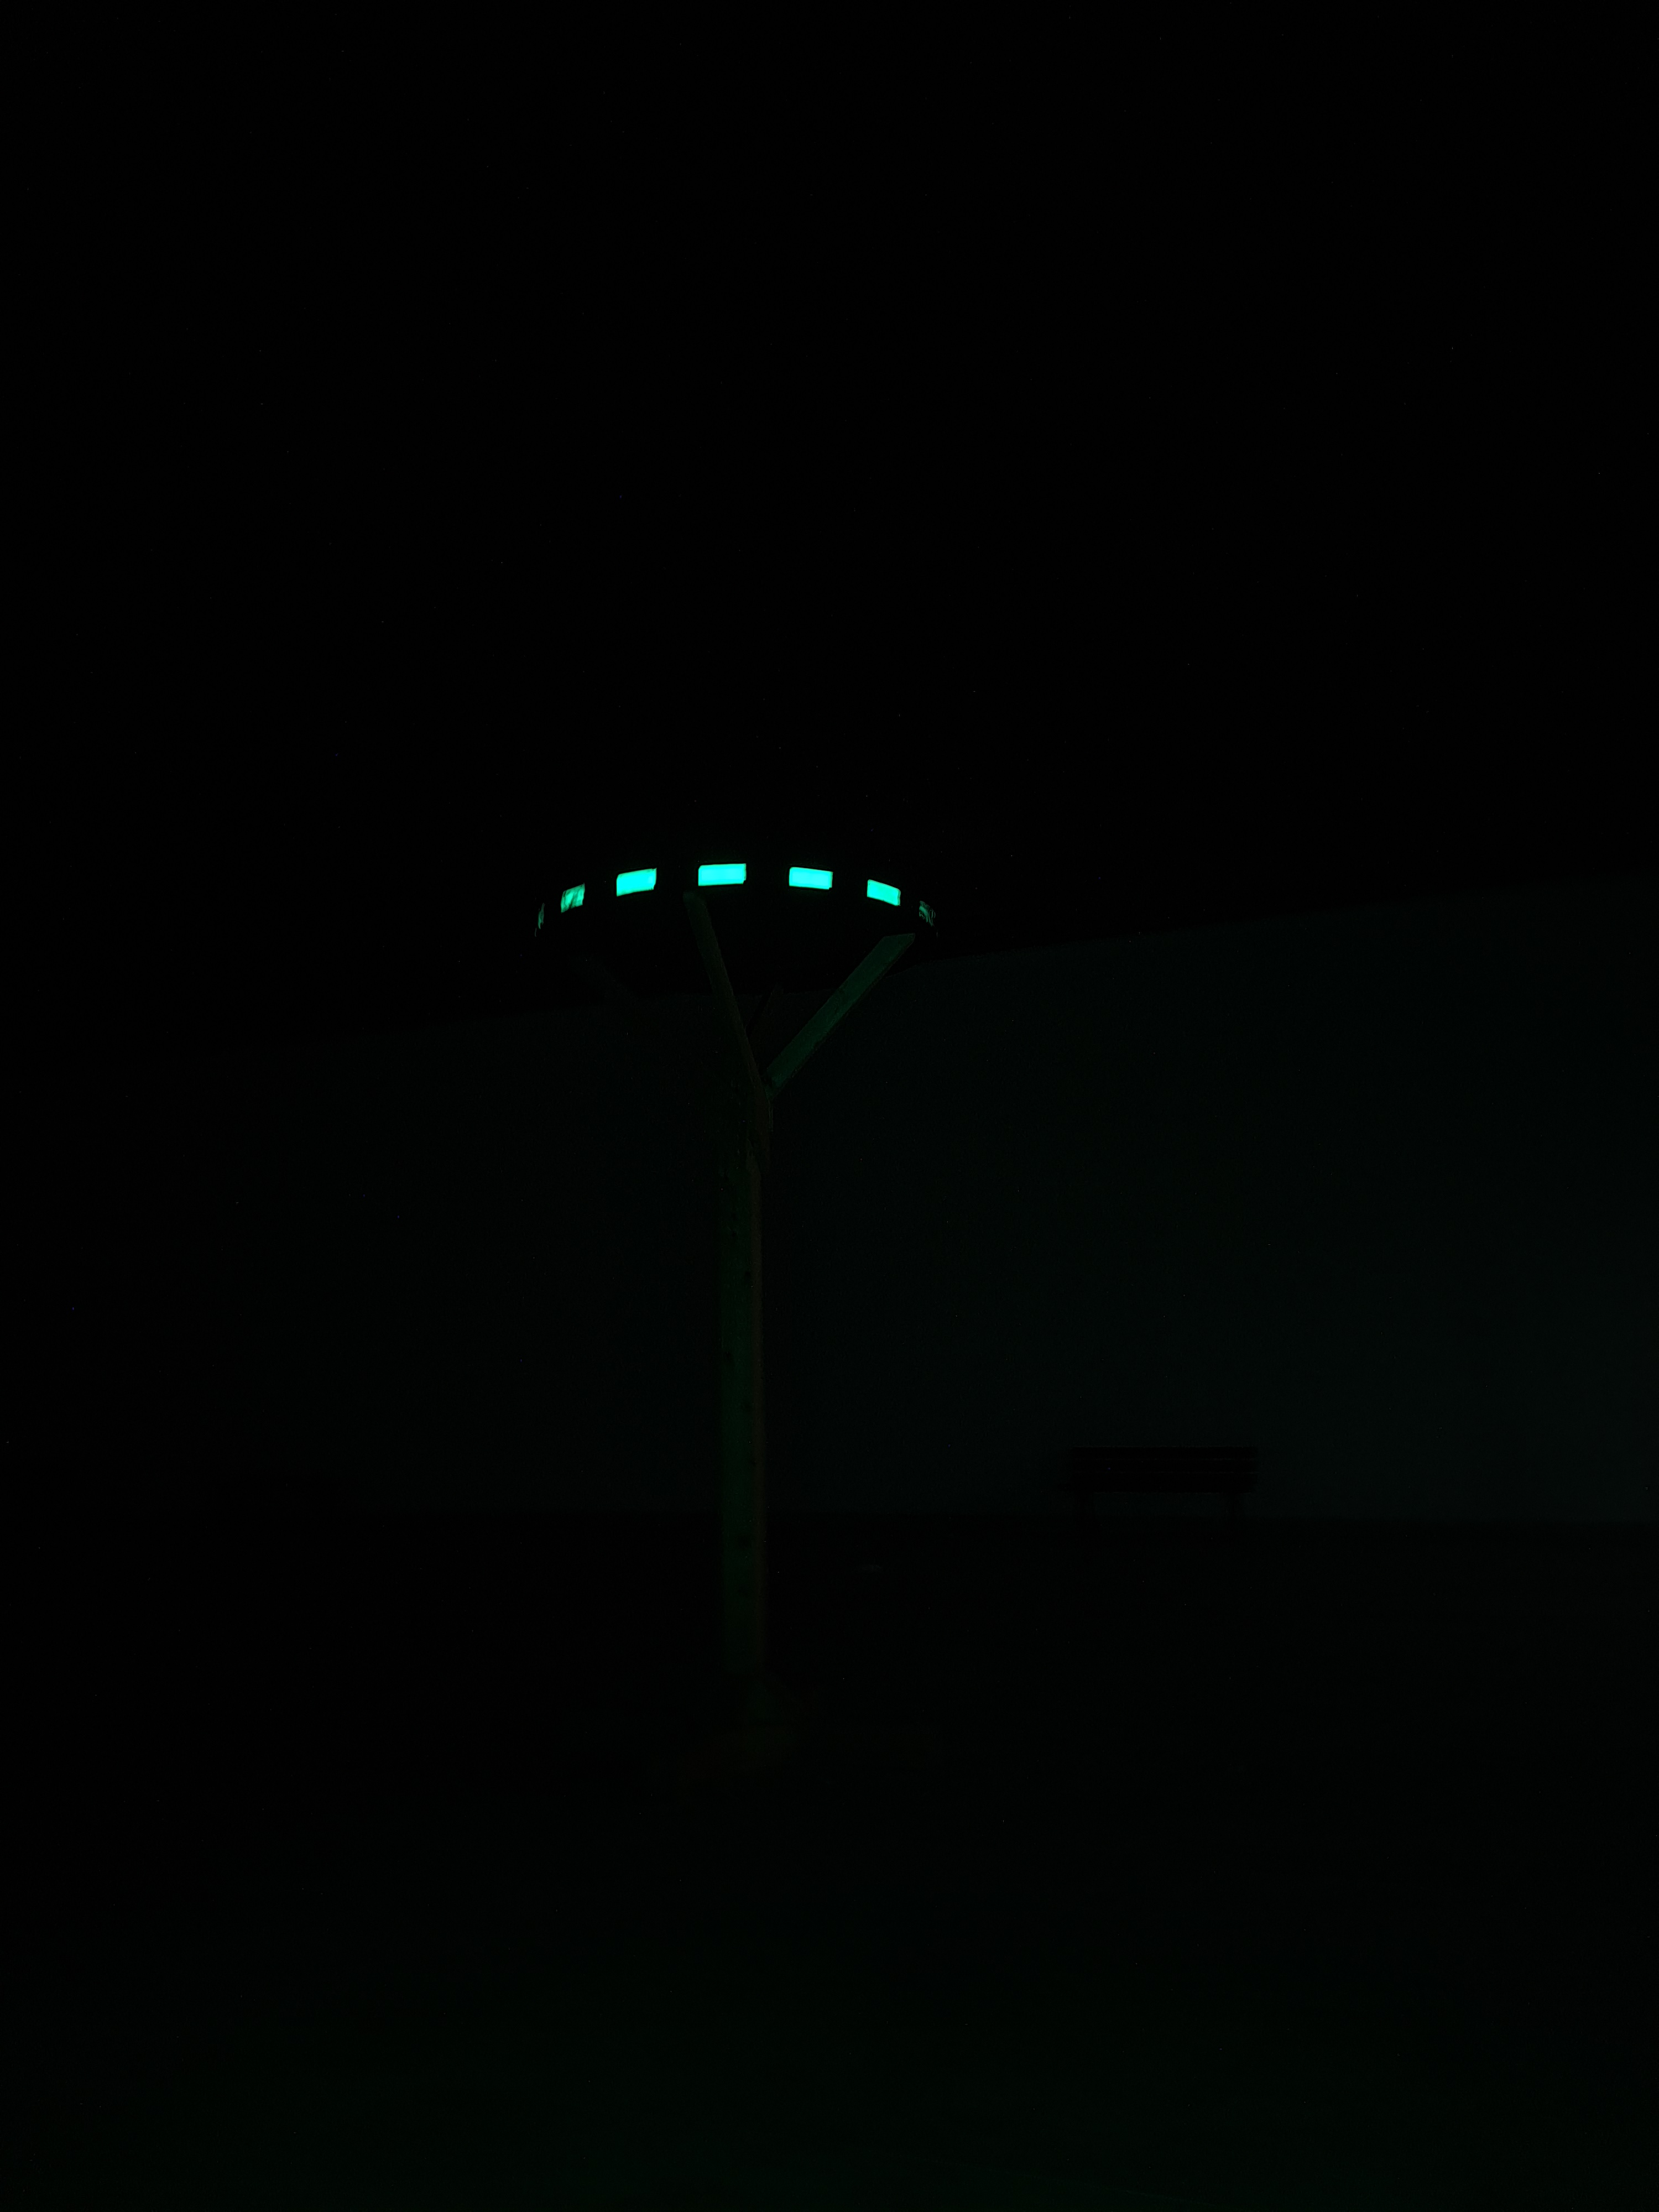hoop: (535, 860, 938, 937)
